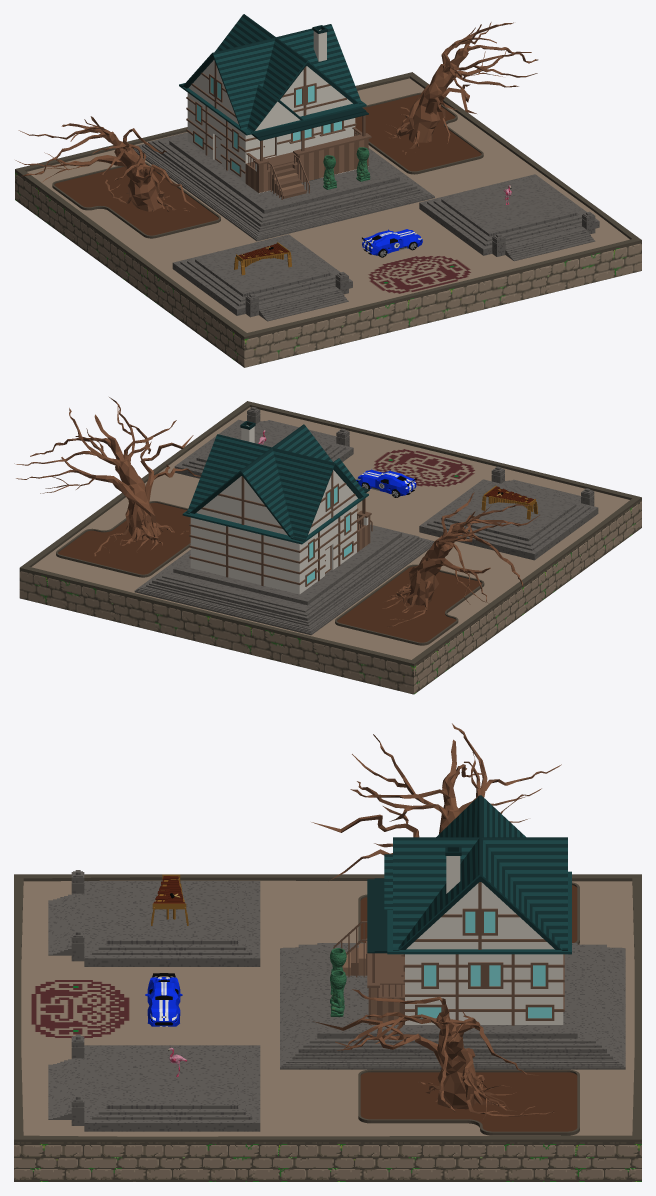
The picture shows the model from 3 angles, top to bottom: view 1: azimuth 30°, elevation 25°; view 2: azimuth 150°, elevation 25°; view 3: azimuth 270°, elevation 25°; orthographic projection. The views are drawn at different scales.
Parts seen in each view (by area): view 1: Cube.011, Cube.793, VEHICLES_RACING_CAR, OBJRANDOM_MARIMBA; view 2: Cube.011, Cube.793, VEHICLES_RACING_CAR, OBJRANDOM_MARIMBA; view 3: Cube.011, Cube.793, VEHICLES_RACING_CAR, OBJRANDOM_MARIMBA.
Part boxes in pixels (left/top/right/bottom): Cube.011: left=15, top=22, right=641, bottom=367; Cube.793: left=179, top=14, right=371, bottom=199; VEHICLES_RACING_CAR: left=362, top=229, right=422, bottom=257; OBJRANDOM_MARIMBA: left=234, top=242, right=291, bottom=275; Cube.011: left=14, top=397, right=641, bottom=694; Cube.793: left=182, top=421, right=372, bottom=594; VEHICLES_RACING_CAR: left=356, top=469, right=416, bottom=497; OBJRANDOM_MARIMBA: left=481, top=485, right=537, bottom=519; Cube.011: left=14, top=723, right=641, bottom=1181; Cube.793: left=333, top=795, right=571, bottom=1025; VEHICLES_RACING_CAR: left=145, top=973, right=182, bottom=1026; OBJRANDOM_MARIMBA: left=151, top=874, right=188, bottom=925.
Bounding box in the file's own units: 5099 × 1668 × 4000.
Materials: 31 (6 with a texture image).
